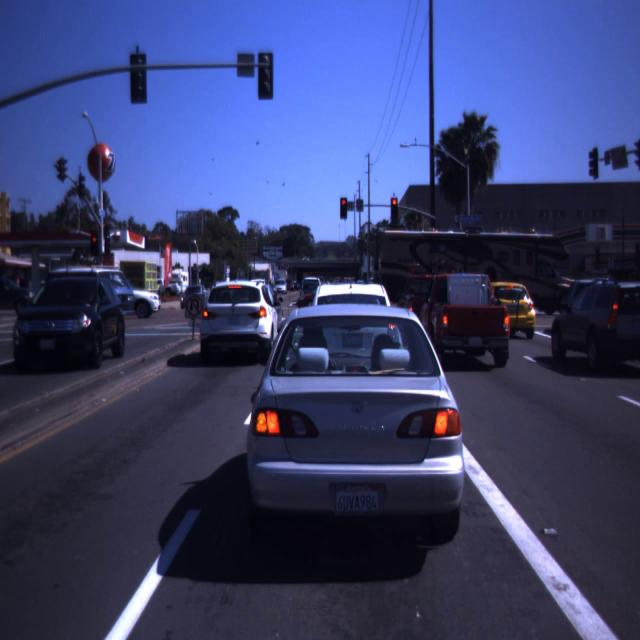stop: (390, 198, 399, 216)
stop left: (87, 234, 101, 258), (337, 197, 351, 217)
stop left traffic light: (87, 234, 101, 258), (337, 197, 351, 217)
stop traffic light: (390, 198, 399, 216)
